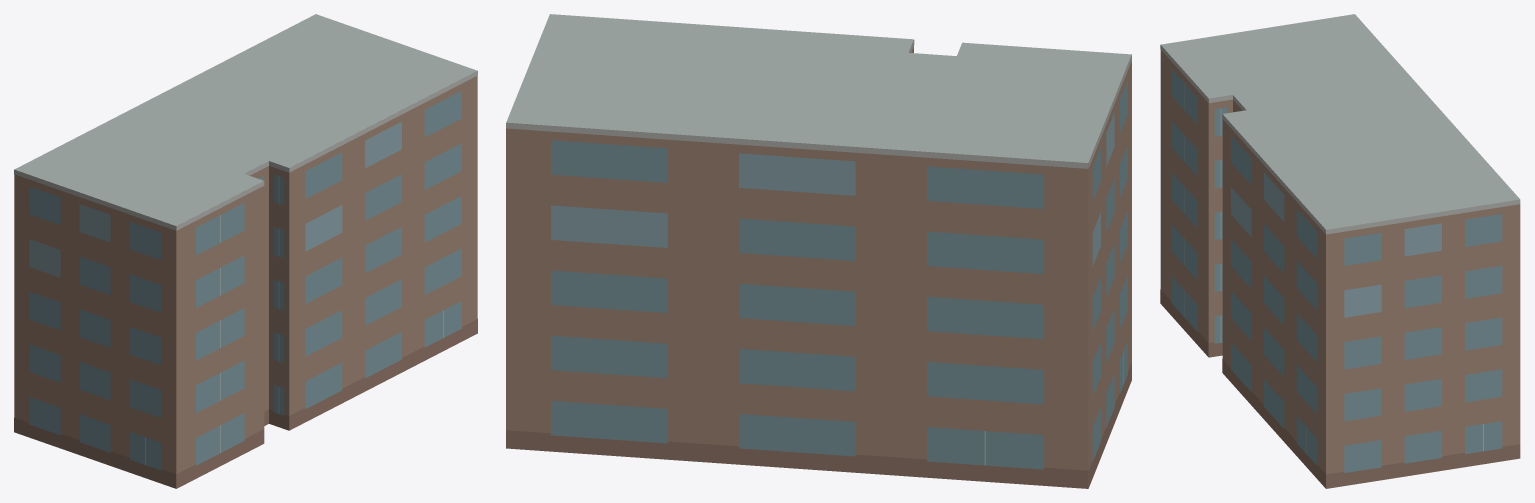
Rendered from survey-upis-33020347.glb.
The picture shows the model from 3 angles, left to right: view 1: azimuth 30°, elevation 25°; view 2: azimuth 150°, elevation 25°; view 3: azimuth 270°, elevation 25°; orthographic projection. The views are drawn at different scales.
Parts seen in each view (by area): view 1: survey-upis-33020347.tmp; view 2: survey-upis-33020347.tmp; view 3: survey-upis-33020347.tmp.
Boxes of the visible parts, <box> form: survey-upis-33020347.tmp: <box>14,14,477,488</box>; survey-upis-33020347.tmp: <box>506,14,1131,488</box>; survey-upis-33020347.tmp: <box>1160,14,1520,488</box>.
Bounding box in the file's own units: 24.51 × 13.7 × 17.27.
